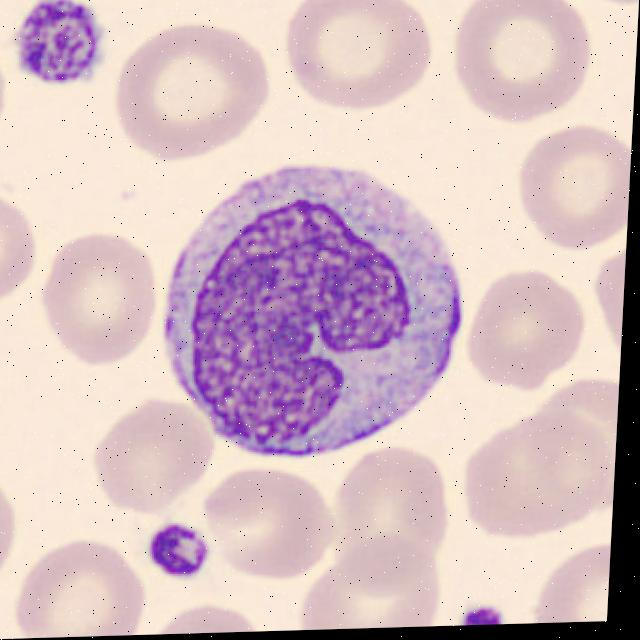monocyte: (159, 151, 469, 453)
platelets: (6, 0, 108, 92), (137, 518, 221, 589), (460, 607, 518, 625)
rbc: (459, 401, 617, 554), (106, 16, 273, 156), (324, 451, 464, 587), (450, 0, 600, 126), (286, 0, 450, 109), (81, 389, 223, 514), (518, 362, 620, 531), (45, 230, 166, 368), (202, 468, 337, 587), (299, 524, 446, 630), (471, 260, 587, 393), (11, 535, 149, 639), (521, 116, 633, 241), (519, 535, 611, 624), (140, 596, 281, 635), (0, 186, 36, 311), (0, 442, 21, 591)
